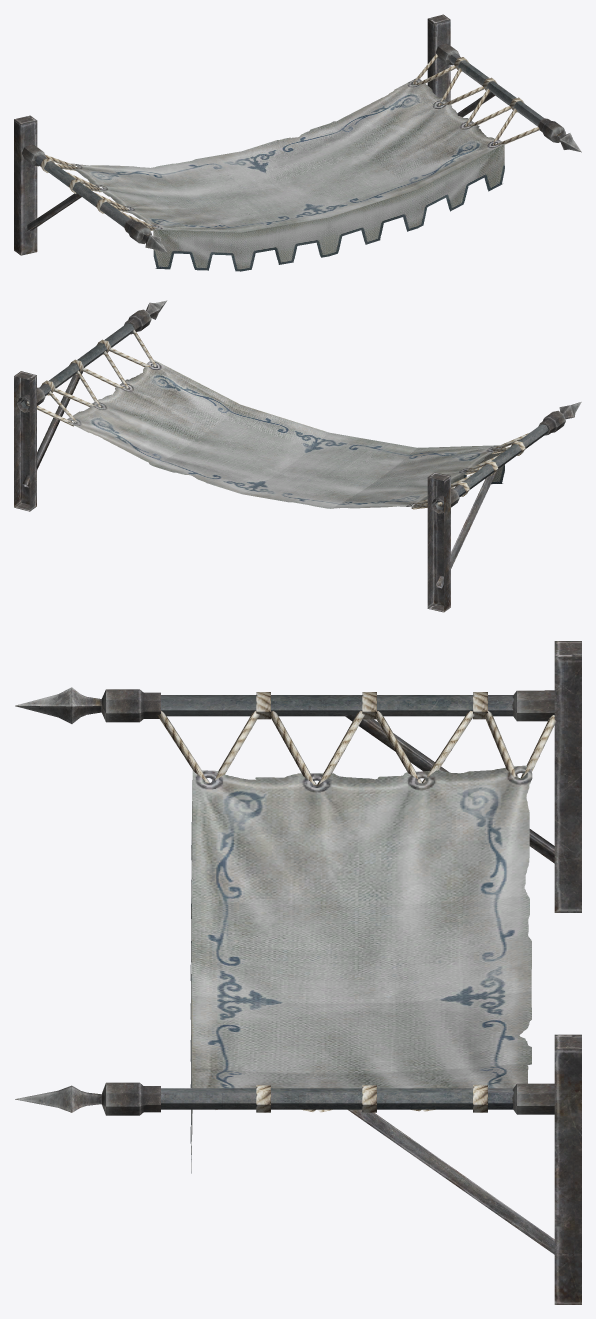
File: bg_lut_lucastle_tent02_sm_msj.FBX
The picture shows the model from 3 angles, top to bottom: view 1: azimuth 30°, elevation 25°; view 2: azimuth 150°, elevation 25°; view 3: azimuth 270°, elevation 25°; orthographic projection. The views are drawn at different scales.
Parts seen in each view (by area): view 1: bg_lut_lucastle_tent02_sm_msj; view 2: bg_lut_lucastle_tent02_sm_msj; view 3: bg_lut_lucastle_tent02_sm_msj.
Part boxes in pixels (x1=…): bg_lut_lucastle_tent02_sm_msj: x1=14, y1=14, x2=581, y2=271; bg_lut_lucastle_tent02_sm_msj: x1=14, y1=300, x2=581, y2=612; bg_lut_lucastle_tent02_sm_msj: x1=15, y1=641, x2=581, y2=1304.
Bounding box in the file's own units: 299 × 87.37 × 175.
